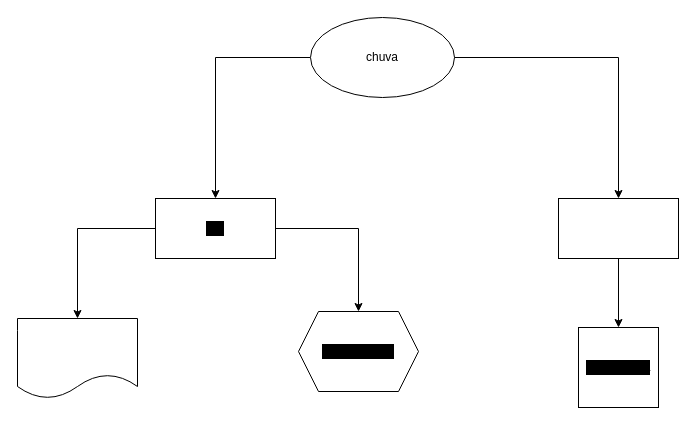
Image size: 696x425. Some labels were removed from this diagram. The shapes that lost their labels are listed below. From the top down, each one's centre as x and y in pixels, then its label:
(618,228): não
(77,358): guarda-chuva
